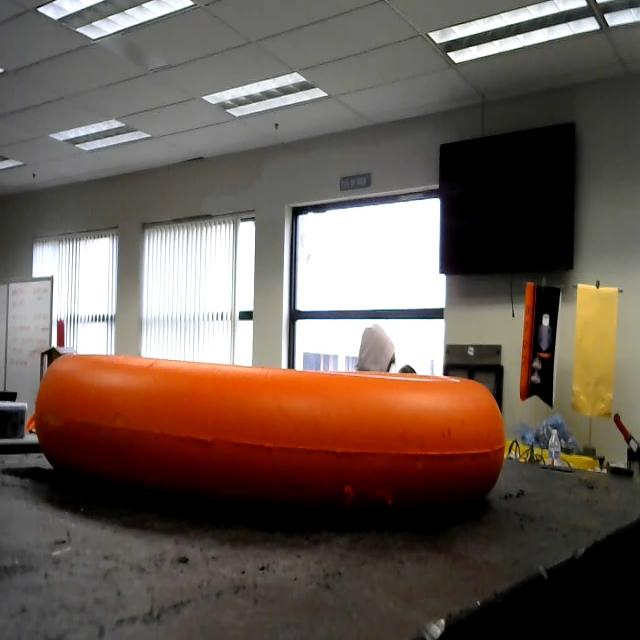note: (25, 337, 533, 545)
